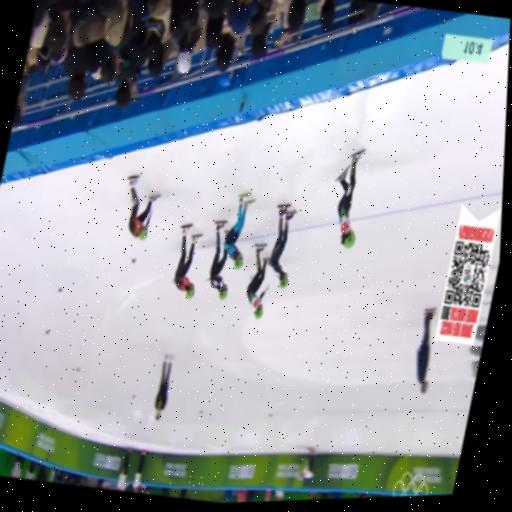Skater: (337, 151, 362, 248), (225, 192, 254, 269), (173, 224, 202, 299), (270, 205, 295, 287), (129, 176, 159, 239), (247, 244, 268, 318), (209, 220, 228, 299)
